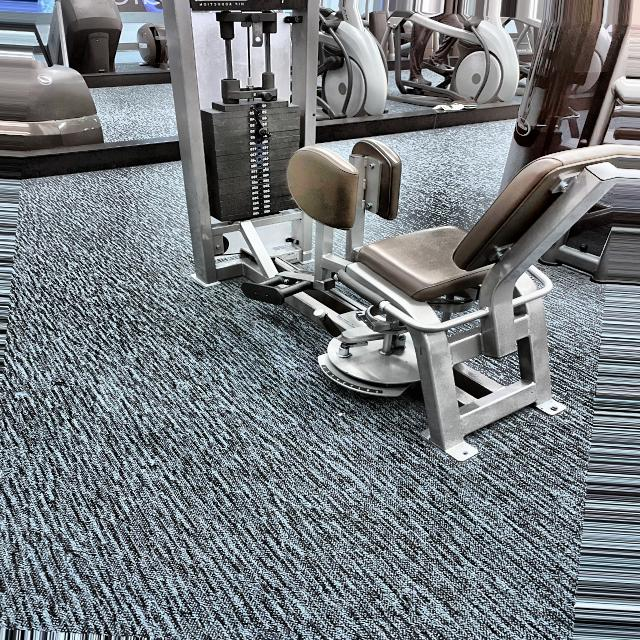hip_adduction_machine: (283, 121, 640, 452)
